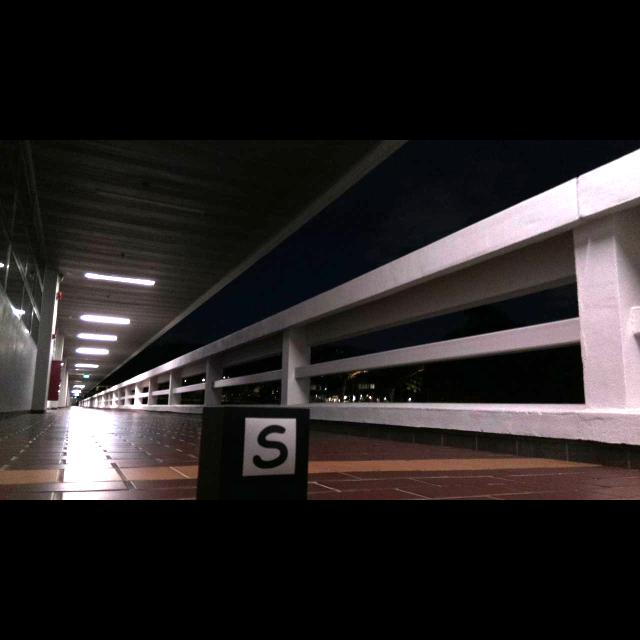S: (253, 425, 288, 468)
